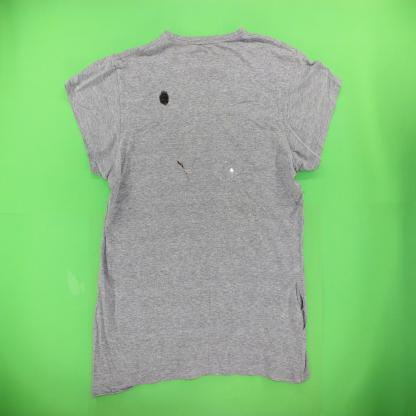hole: (294, 280, 307, 333)
stain: (176, 159, 191, 183), (157, 88, 171, 107), (228, 166, 236, 184), (225, 110, 232, 118)
